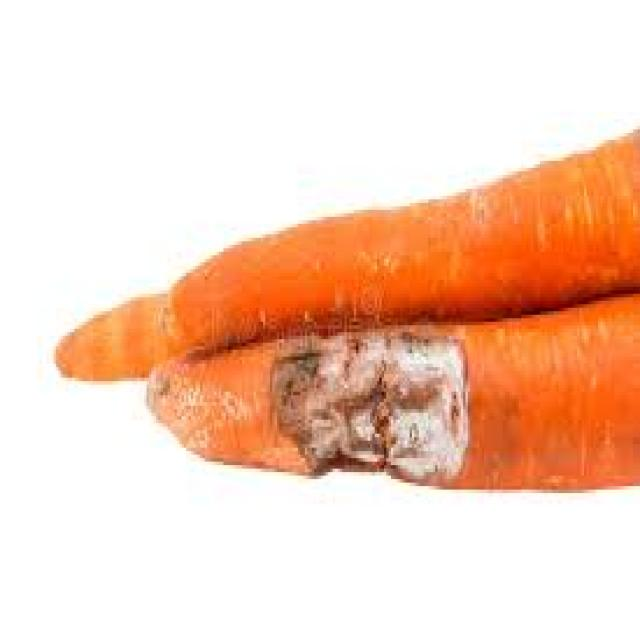Stale_Carrot: (64, 121, 640, 377), (144, 285, 640, 488)
